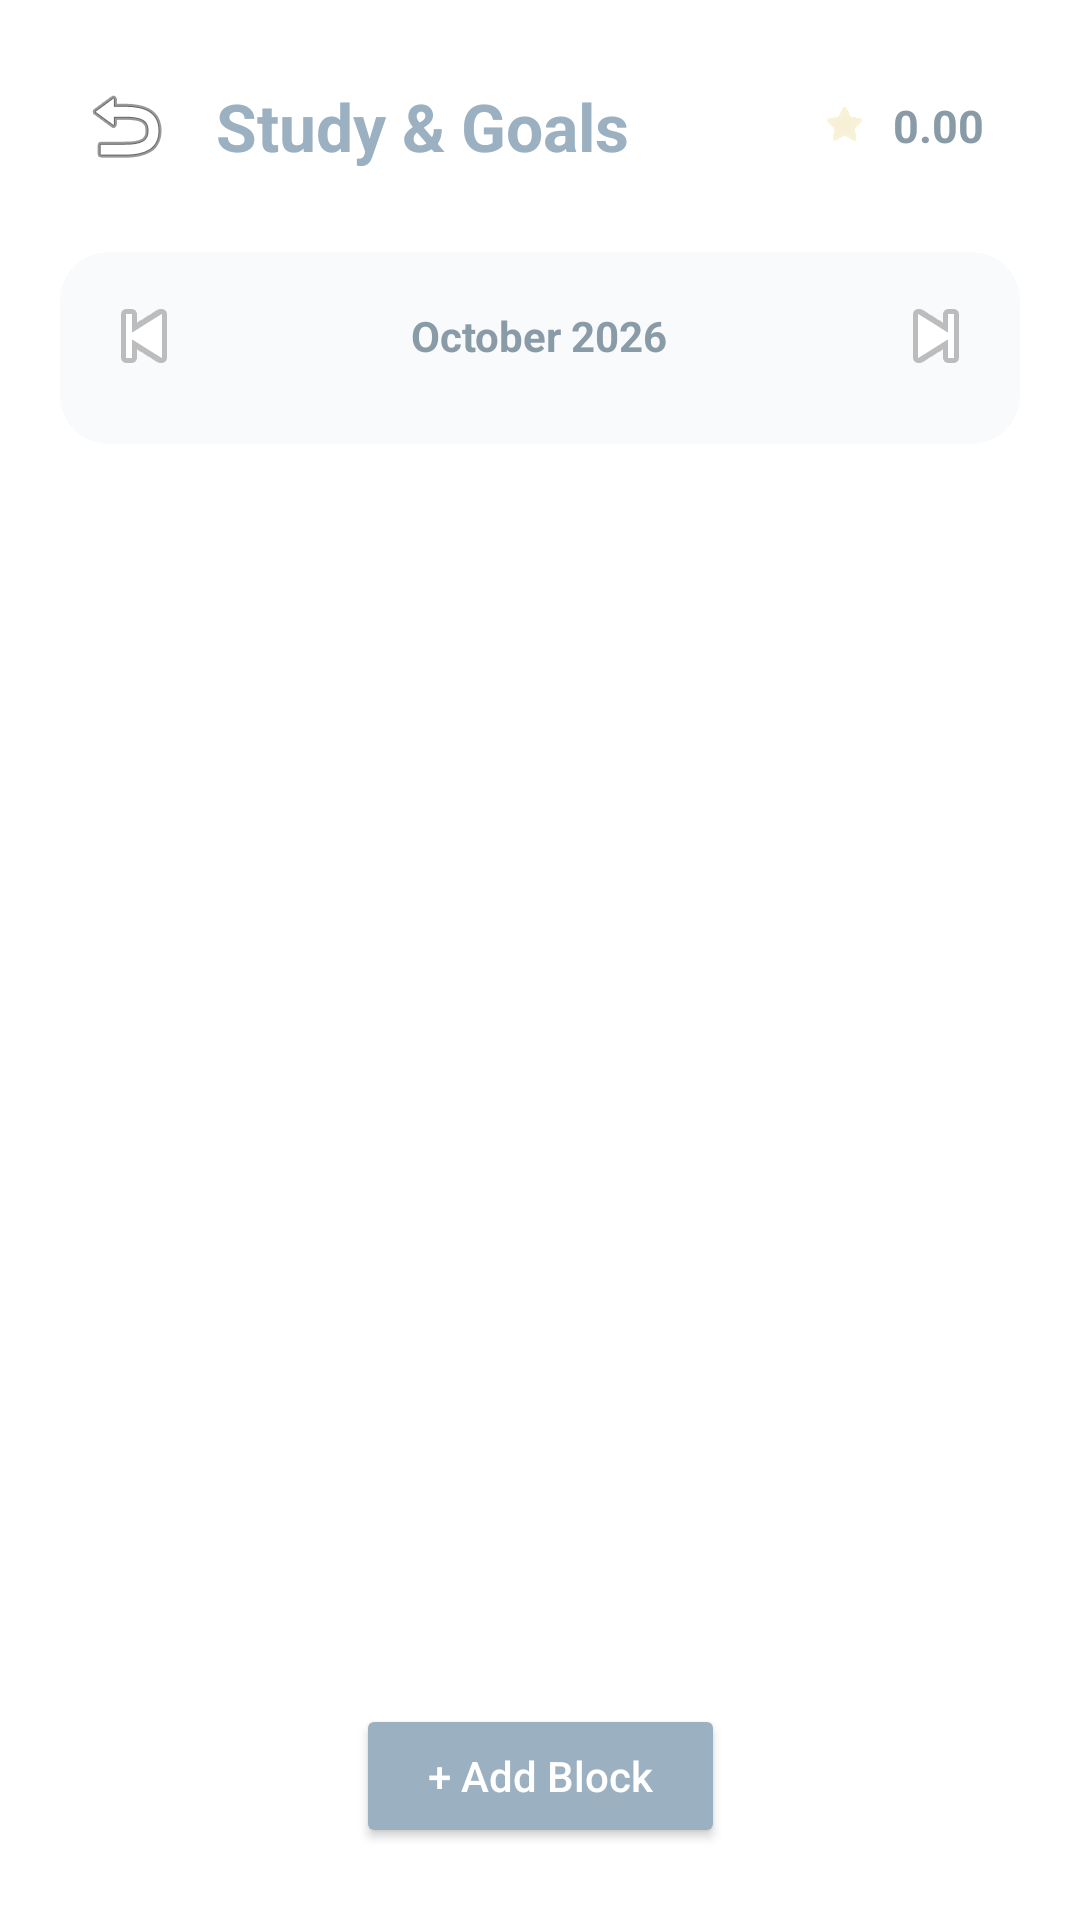

Icons on this 1080w x 1920h Android screen, each with its box as (x1, y1, x2, y2):
Back: (93, 95, 162, 158)
next: (913, 309, 959, 363)
previous: (121, 309, 167, 363)
star coin: (827, 107, 862, 141)
